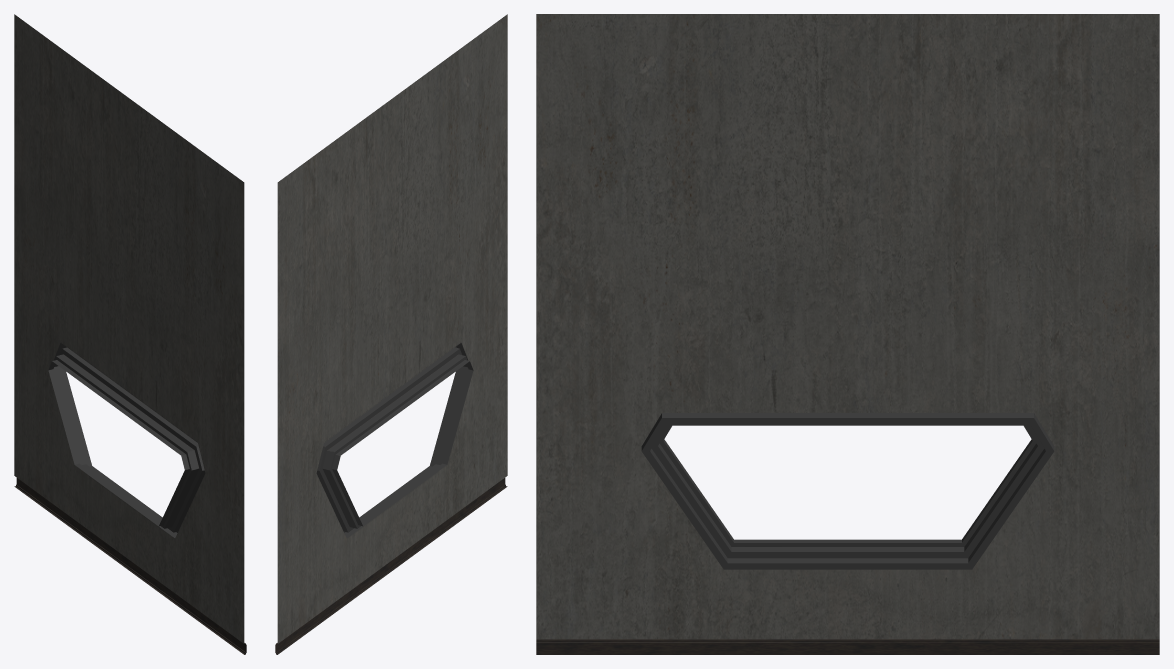
File: Janela.fbx
3 views of the same model, side by side, from view 1: azimuth 30°, elevation 25°; view 2: azimuth 150°, elevation 25°; view 3: azimuth 270°, elevation 25° (orthographic). The views are drawn at different scales.
Parts seen in each view (by area): view 1: Plane.010; view 2: Plane.010; view 3: Plane.010.
Part boxes in pixels (box(x1,y1,x2,y2)): Plane.010: box(14, 14, 246, 654); Plane.010: box(275, 14, 507, 654); Plane.010: box(536, 14, 1159, 654).
Size of the model in its own units: 56.59 by 1276 by 1126.
